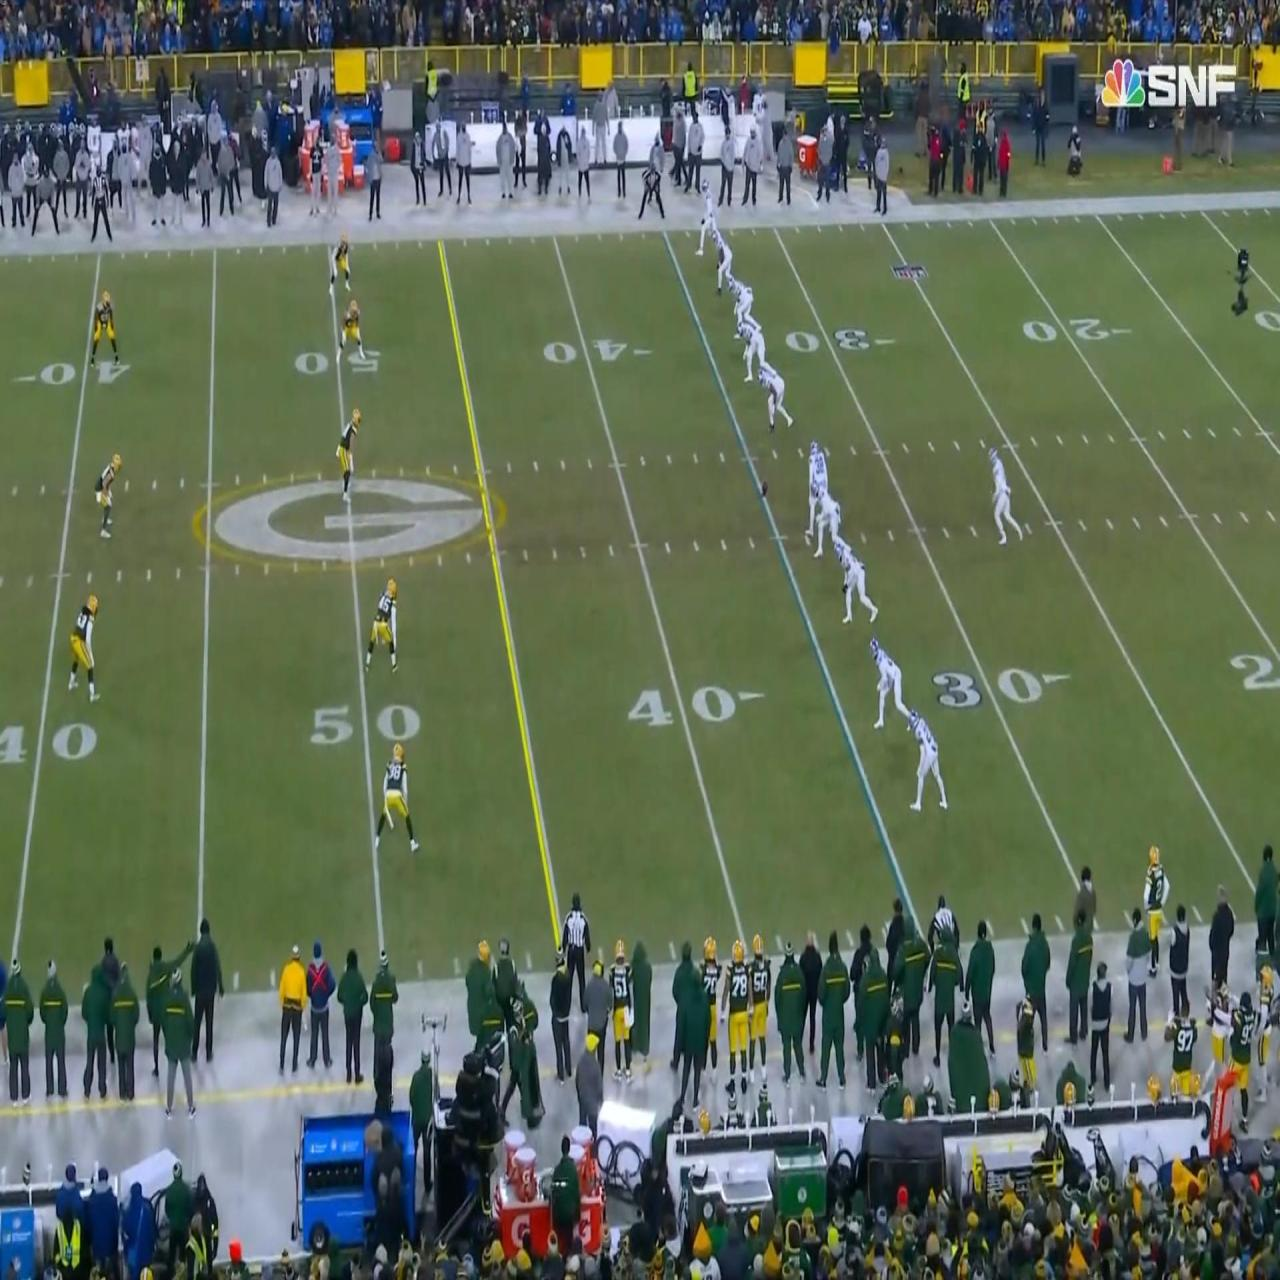20R: (1022, 315, 1131, 343), (1230, 654, 1280, 689)
30R: (932, 667, 1069, 709), (787, 329, 897, 350)
40L: (0, 723, 97, 763), (14, 359, 130, 384)
40R: (627, 687, 763, 726), (543, 338, 654, 362)
50: (311, 704, 421, 744), (293, 349, 381, 375)
